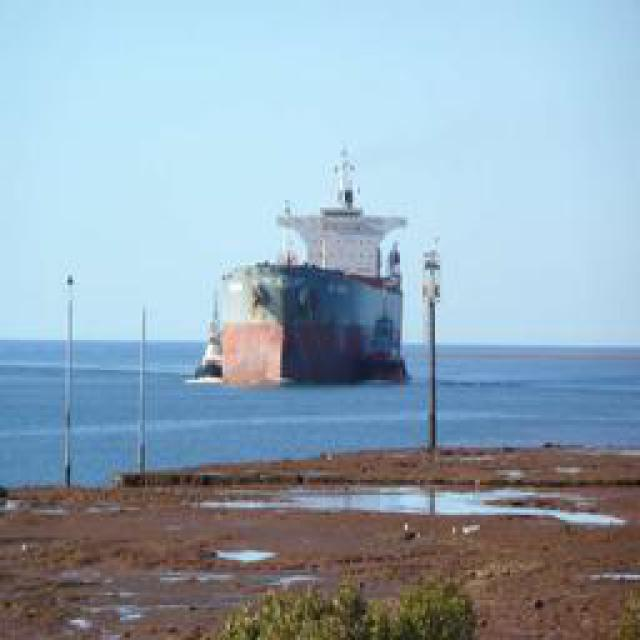Ship: (206, 142, 416, 392)
